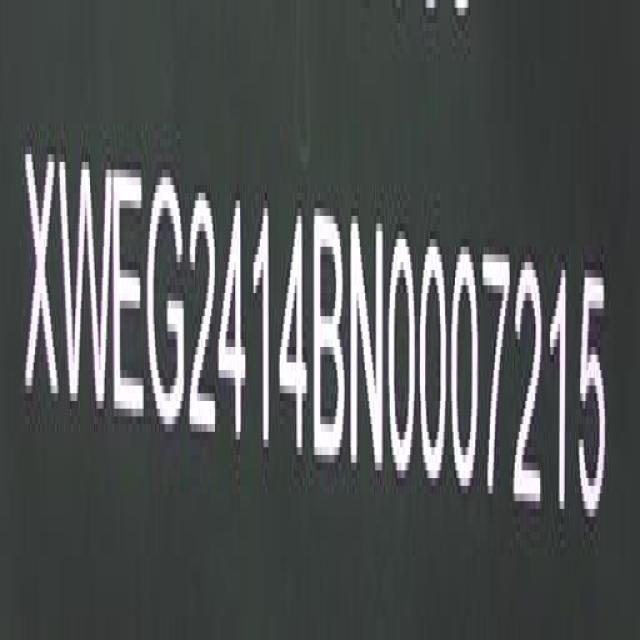0: (452, 240, 481, 496), (420, 237, 448, 491), (391, 223, 418, 481)
1: (253, 190, 274, 458), (553, 259, 573, 530)
2: (190, 186, 220, 448), (516, 254, 544, 524)
4: (280, 200, 311, 464), (218, 194, 248, 456)
5: (581, 258, 612, 530)
7: (484, 242, 512, 506)
B: (314, 212, 346, 470)
E: (113, 160, 145, 430)
G: (147, 166, 187, 442)
N: (351, 218, 385, 480)
W: (59, 146, 112, 426)
X: (24, 138, 60, 418)
